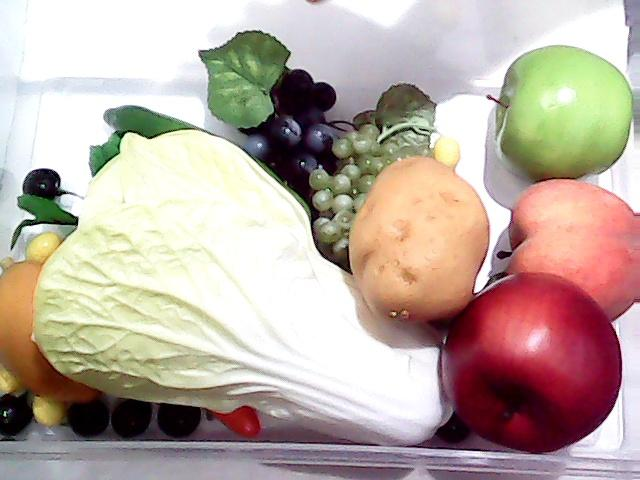apple: (440, 269, 620, 455), (486, 43, 634, 181)
carrot: (203, 400, 265, 438)
grape: (310, 115, 432, 267), (238, 56, 342, 204)
lemon: (0, 253, 100, 407)
napa cabbage: (17, 120, 471, 446)
peach: (496, 180, 640, 324)
pepper: (100, 100, 318, 228)
potato: (350, 156, 490, 326)
